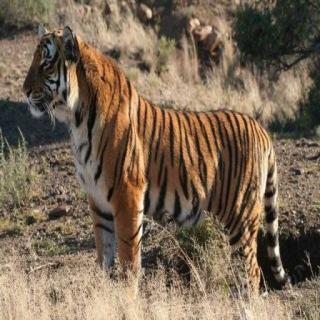Tiger: (21, 20, 315, 294)
